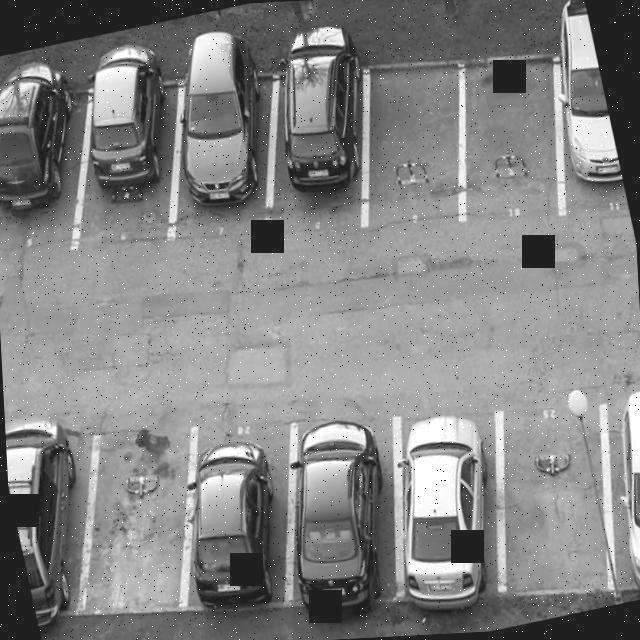space-empty: (475, 386, 631, 594), (59, 423, 210, 635), (447, 36, 564, 232), (351, 47, 471, 231)
space-occupied: (269, 398, 414, 622), (359, 387, 505, 600), (160, 401, 306, 612), (157, 52, 283, 240), (258, 38, 377, 234), (64, 63, 183, 244), (5, 407, 103, 623), (0, 64, 90, 247), (544, 25, 627, 211), (577, 369, 640, 603), (0, 84, 4, 257)
